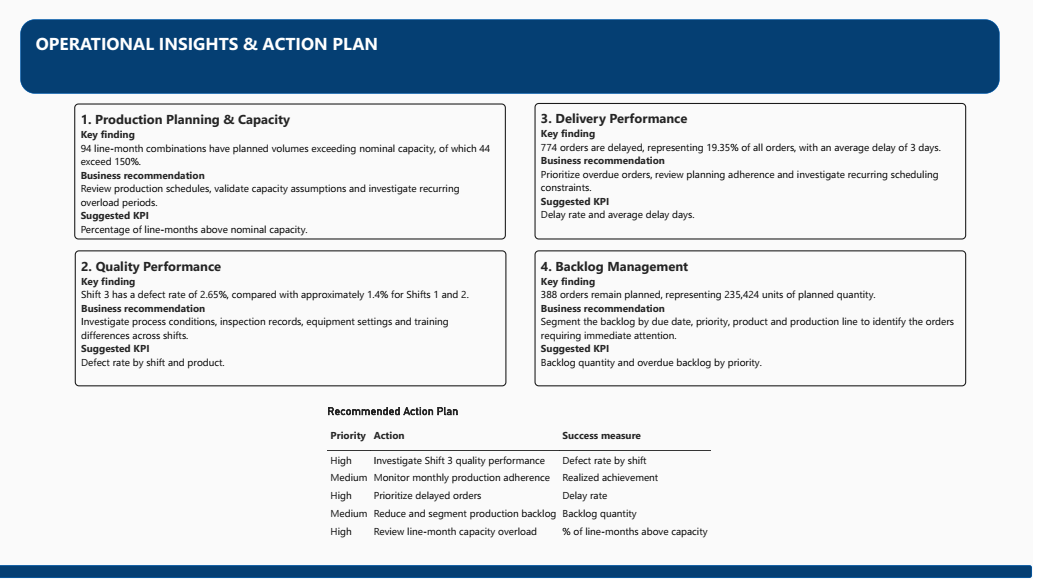

The page's visual inventory and layout, read from the dashboard file:
{"tool":"powerbi","page":{"name":"Insights & Recommendations","canvas":[1920,1080],"ordinal":3},"visuals":[{"type":"shape","box":[45,45,1815,137.5],"z":0},{"type":"textbox","box":[74,67.4,680,51.7],"z":1000},{"type":"textbox","box":[87.3,119,576.7,50],"z":2000},{"type":"shape","box":[0,1056,1920,24],"z":3000},{"type":"textbox","box":[144.7,200.7,800,252.5],"z":4000},{"type":"textbox","box":[997.5,200,800,252.5],"z":5000},{"type":"textbox","box":[146.3,472.6,800,252.5],"z":6000},{"type":"textbox","box":[997.5,472.5,800,252.5],"z":7000},{"type":"tableEx","title":"Recommended Action Plan","fields":{"Values":["ActionPlan.Priority","ActionPlan.Action","ActionPlan.Success measure"]},"box":[597.5,745,817.5,305],"z":8000}]}

Visuals, with their boxes in screenshot pixels (x1, y1, x2, y2), scaled from the page's 1920x1080 canvas onto the 1040x586 screenshot:
shape: rect(24, 24, 1007, 99)
textbox: rect(40, 37, 408, 65)
textbox: rect(47, 65, 360, 92)
shape: rect(0, 573, 1039, 585)
textbox: rect(78, 109, 512, 246)
textbox: rect(540, 109, 974, 246)
textbox: rect(79, 256, 513, 393)
textbox: rect(540, 256, 974, 393)
"Recommended Action Plan" tableEx: rect(324, 404, 766, 570)
